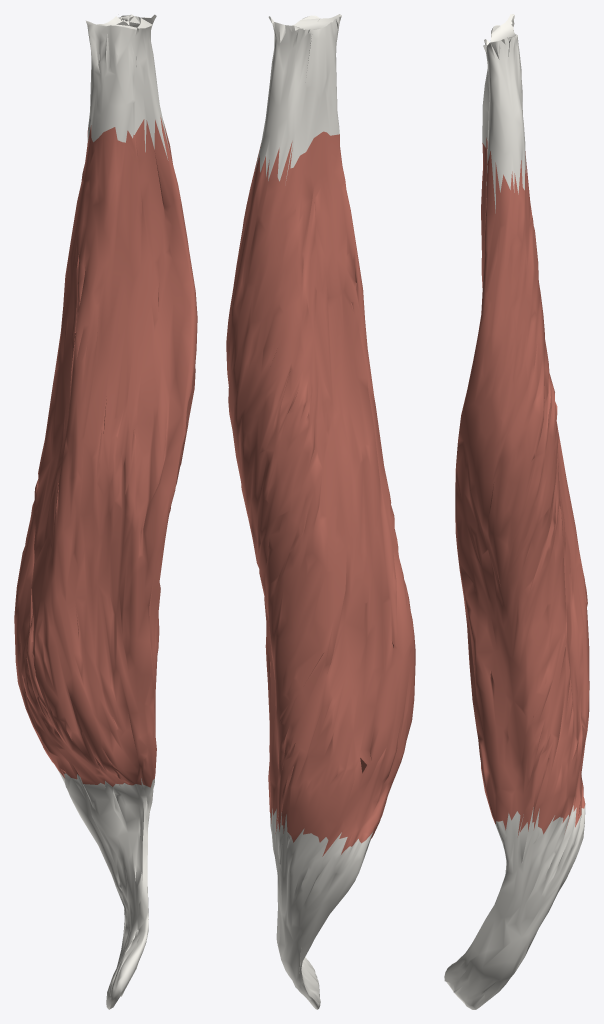
File: semi-membraneux.glb
3 views of the same model, side by side, from view 1: azimuth 30°, elevation 25°; view 2: azimuth 210°, elevation 25°; view 3: azimuth 270°, elevation 25° (orthographic). The views are drawn at different scales.
Parts seen in each view (by area): view 1: semi-membraneux; view 2: semi-membraneux; view 3: semi-membraneux.
Boxes of the visible parts, bbox=[...] form: semi-membraneux: bbox=[14, 14, 197, 1009]; semi-membraneux: bbox=[226, 14, 415, 1009]; semi-membraneux: bbox=[444, 14, 589, 1009].
Bounding box in the file's own units: 0.0637 × 0.4174 × 0.0551.
